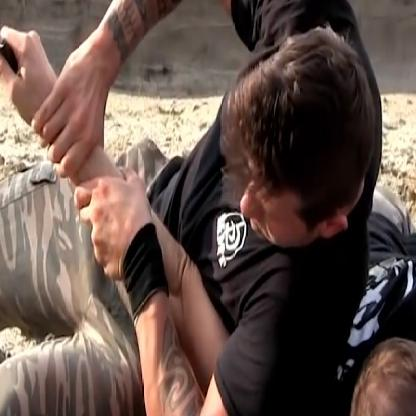knife: (0, 0, 33, 138)
